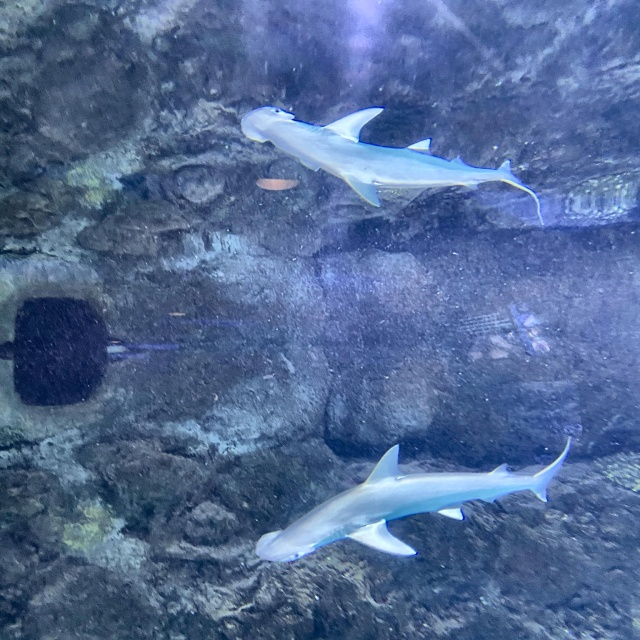shark: (229, 444, 570, 565), (235, 102, 542, 231)
